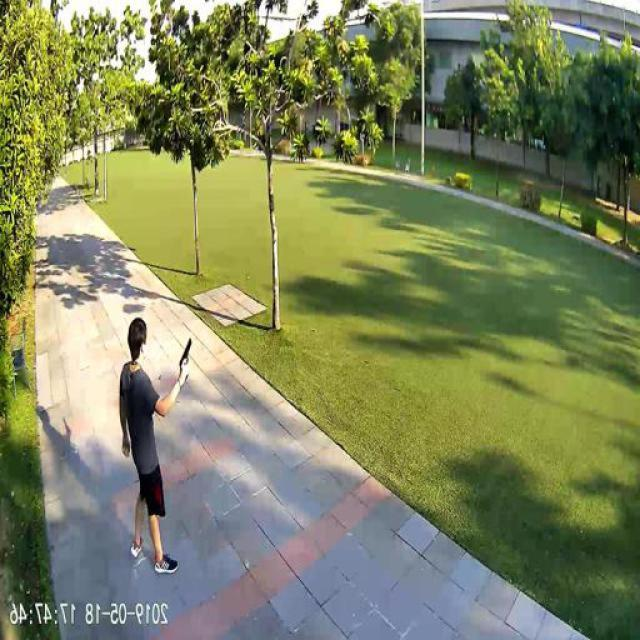weapon: (178, 337, 192, 378)
